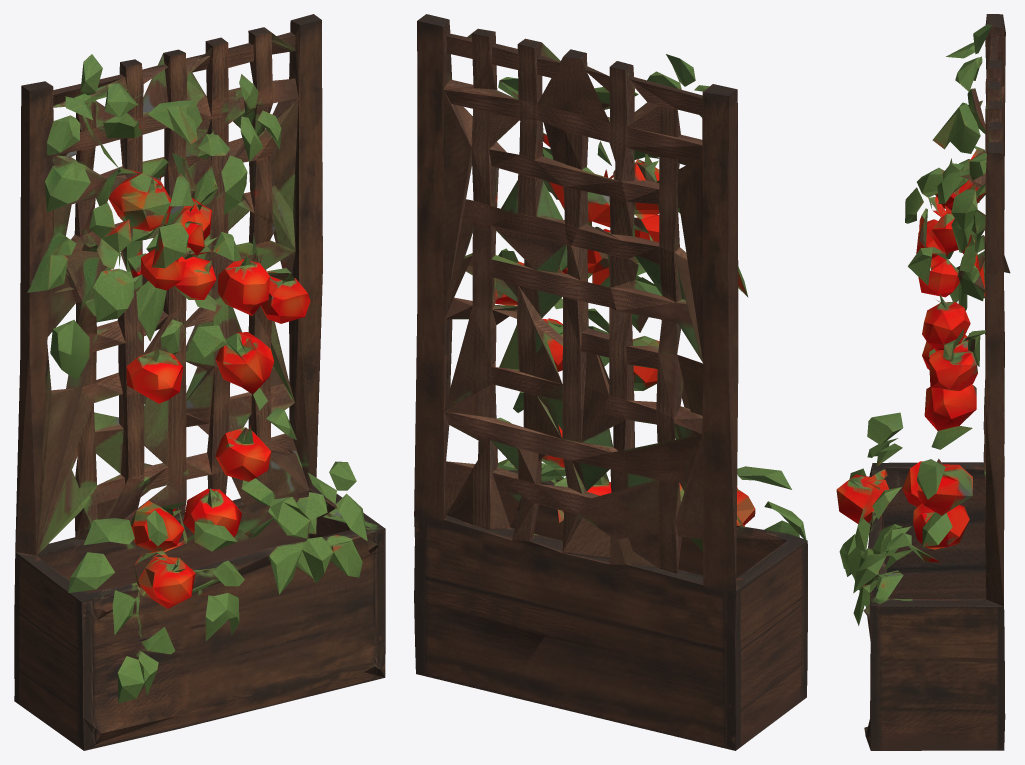
File: trellis.glb
The picture shows the model from 3 angles, left to right: view 1: azimuth 30°, elevation 25°; view 2: azimuth 150°, elevation 25°; view 3: azimuth 270°, elevation 25°; orthographic projection. The views are drawn at different scales.
Visible parts, largest first — view 1: geometry_0; view 2: geometry_0; view 3: geometry_0.
Part boxes in pixels (<box>): geometry_0: <box>14,14,385,750</box>; geometry_0: <box>414,14,807,750</box>; geometry_0: <box>836,14,1010,750</box>.
Size of the model in its own units: 0.7649 by 1.5 by 0.3836.
Materials: 1 (1 with a texture image).
